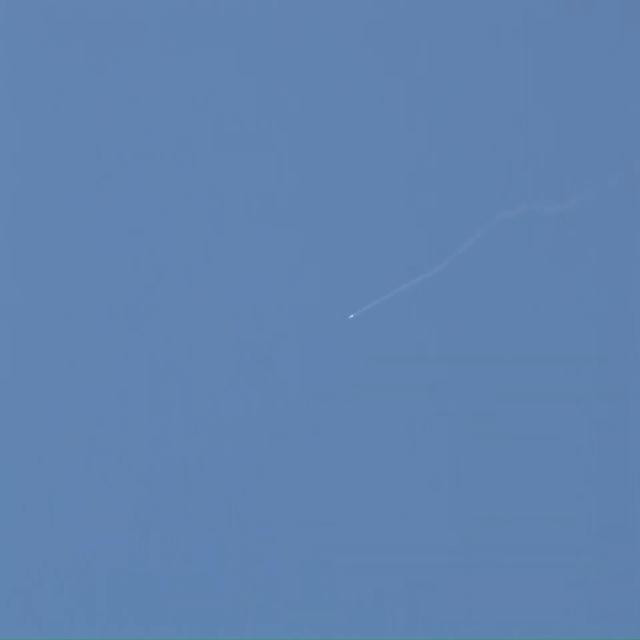Rocket: (349, 314, 353, 320)
